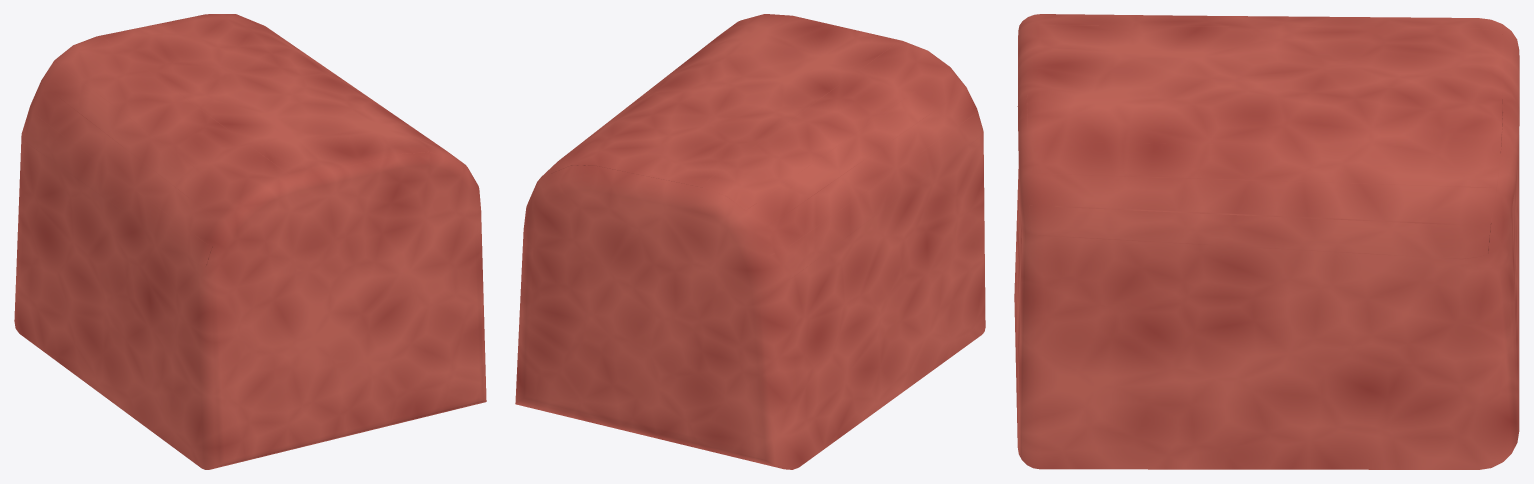
The model's file is Mielonka.gltf.
The picture shows the model from 3 angles, left to right: view 1: azimuth 30°, elevation 25°; view 2: azimuth 150°, elevation 25°; view 3: azimuth 270°, elevation 25°; orthographic projection. The views are drawn at different scales.
Parts seen in each view (by area): view 1: Cube.006; view 2: Cube.006; view 3: Cube.006.
Boxes of the visible parts, x1,y1,x2,y2 form: Cube.006: (14, 14, 486, 469); Cube.006: (515, 14, 985, 469); Cube.006: (1014, 14, 1519, 469).
Bounding box in the file's own units: 1.5 × 1.39 × 1.93.
Materials: 1 (1 with a texture image).
